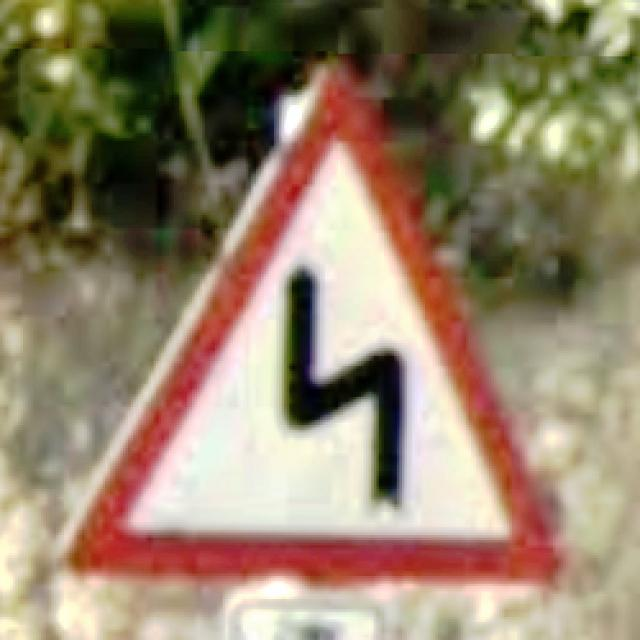doublebendleft: (67, 72, 556, 584)
